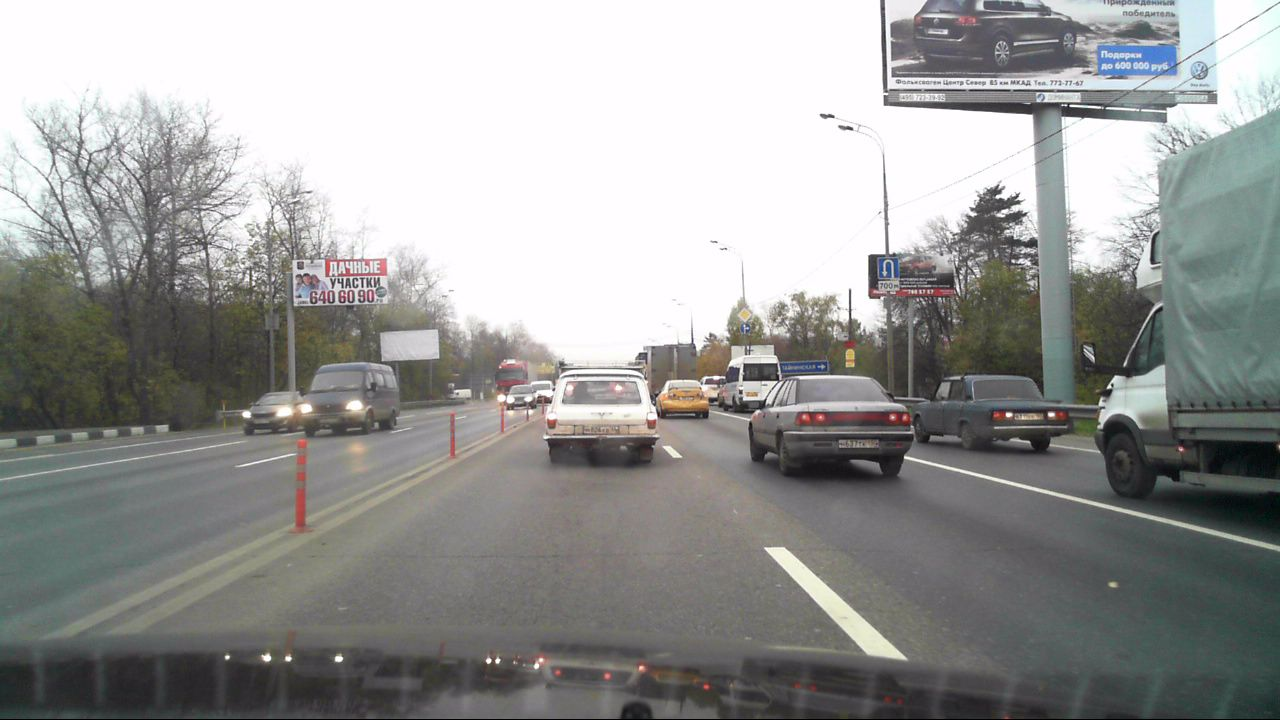U-turn: (878, 258, 899, 279)
